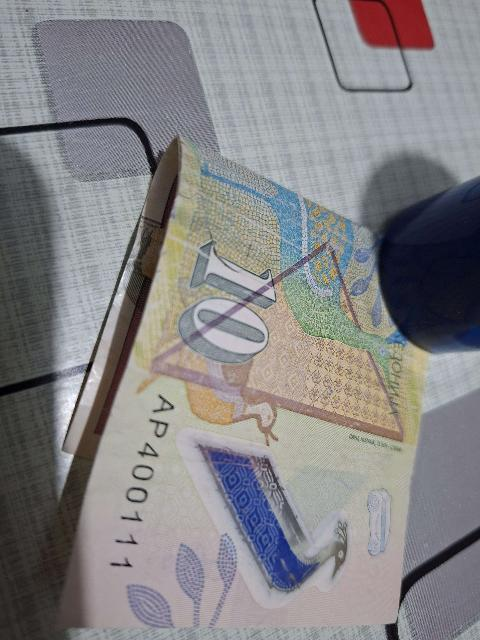note: (9, 142, 431, 639)
